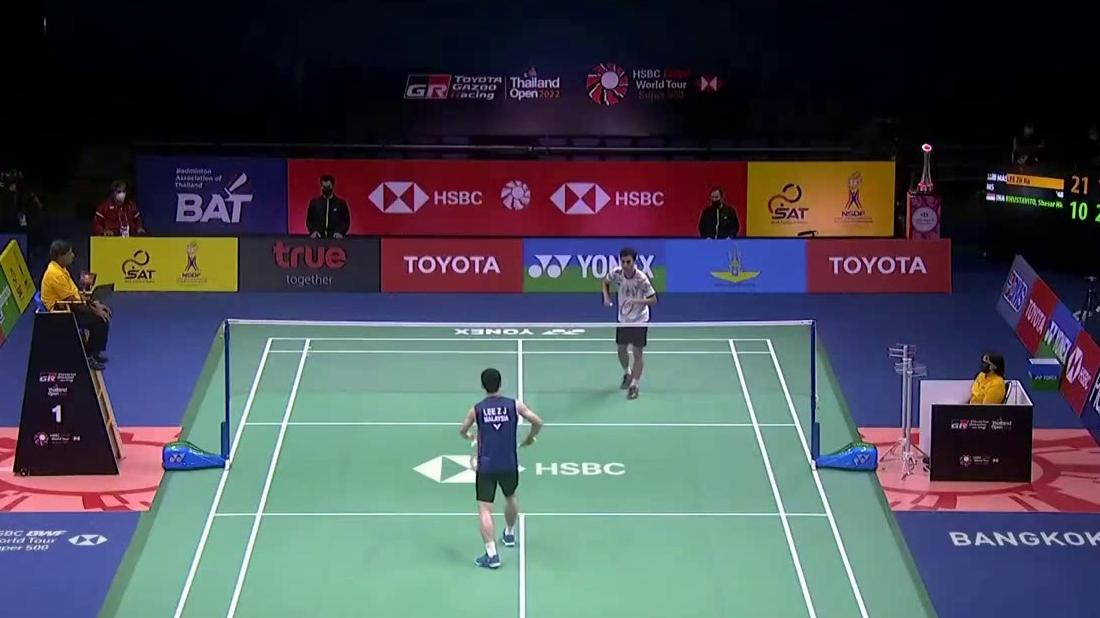racket: (469, 437, 536, 471), (608, 298, 635, 316)
shuttle: (471, 436, 478, 448)
